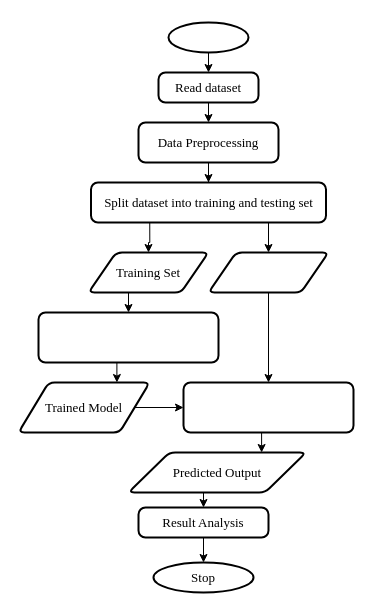
This 371x611 diagram has some shape labels left out. Each missing label, with the box of its shape:
Apply Logistic Regression (Binomial or Multinomial): (37, 311, 219, 363)
Start: (167, 21, 249, 53)
Testing Set: (207, 251, 329, 293)
Use trained model to predict outcome of test data: (182, 381, 354, 433)
